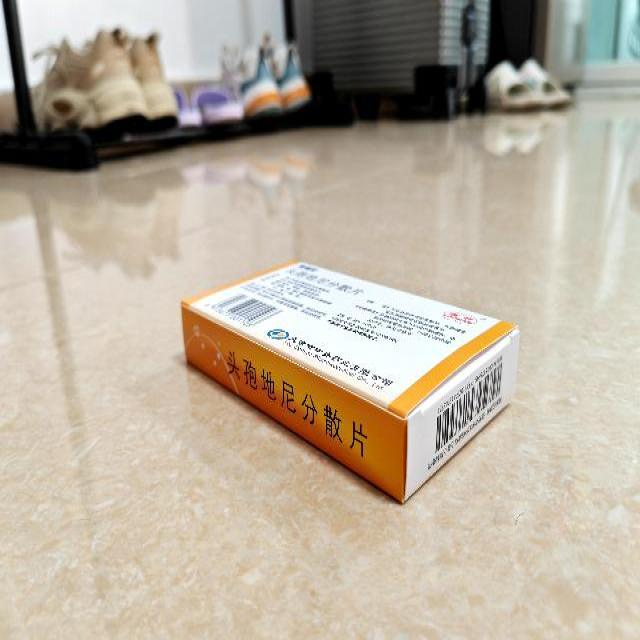box: (180, 260, 520, 503)
